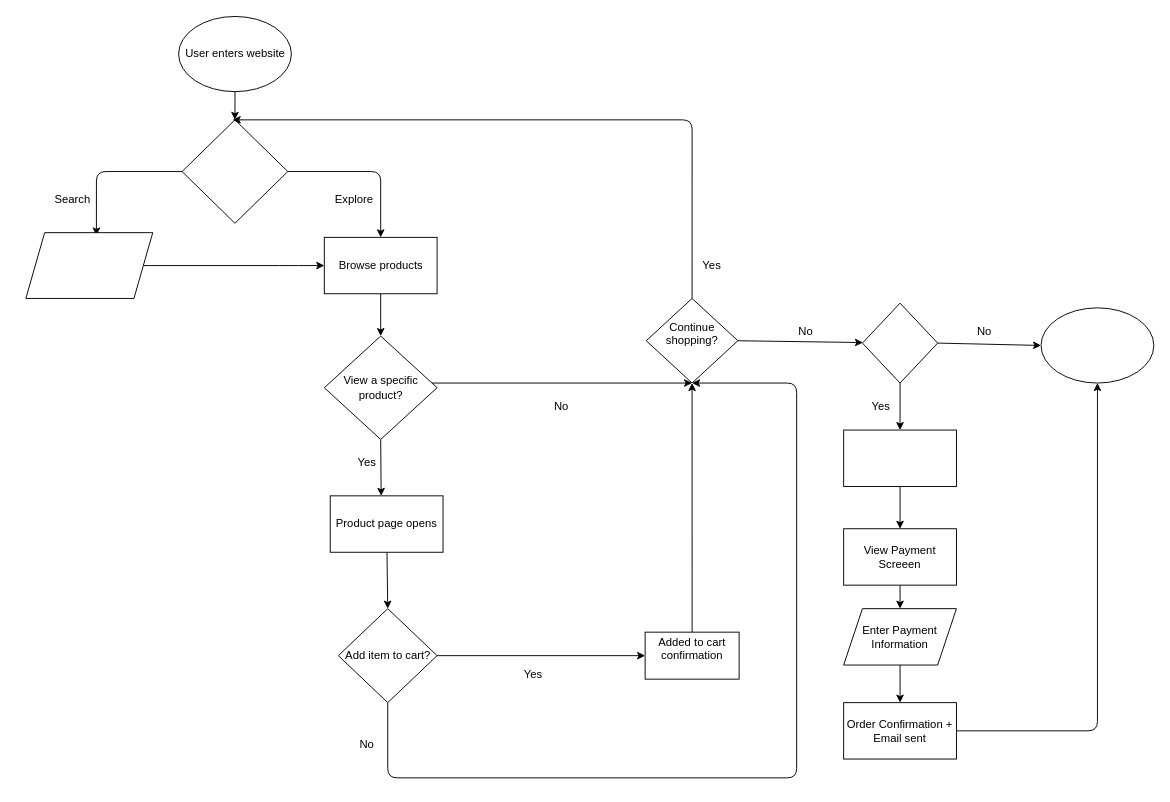
Some shapes in this 1170 by 802 pixel diagram are drawn without their labels. The centre of each missing label's shape, as x and y in pixels:
Checkout?: pixel 900 342
Enter search input: pixel 89 265
Leave website: pixel 1097 345
Search or Explore?: pixel 234 171
View Cart Screen: pixel 899 457
